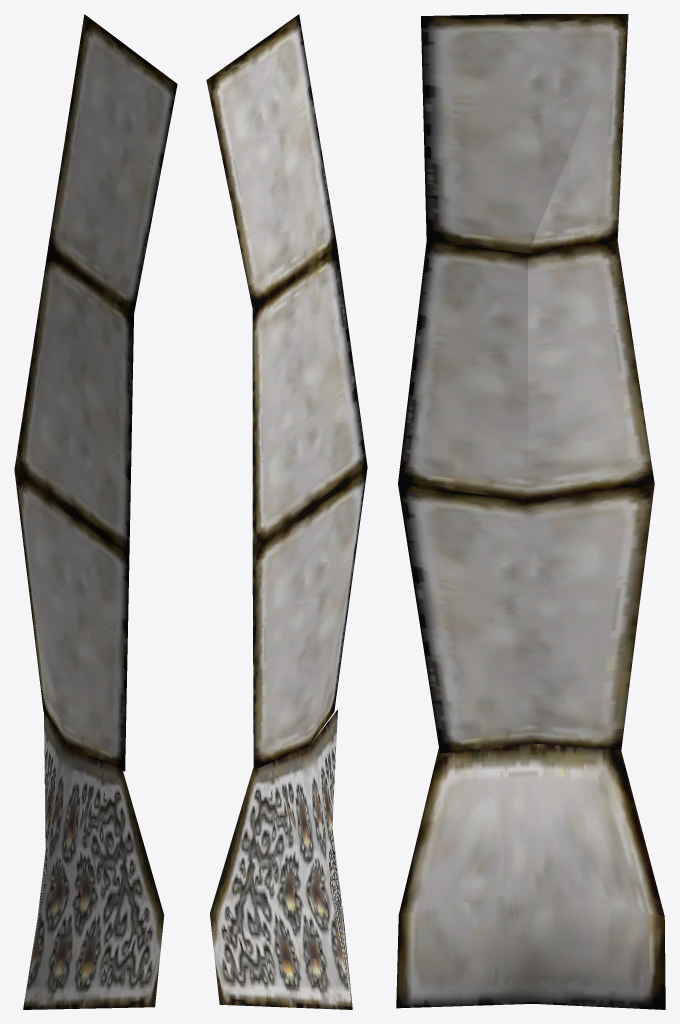
Rendered from earring_s01_l0.fbx.
3 renders of one model, left to right at view 1: azimuth 30°, elevation 25°; view 2: azimuth 150°, elevation 25°; view 3: azimuth 270°, elevation 25°, orthographic. The views are drawn at different scales.
Visible parts, largest first — view 1: mesh_node; view 2: mesh_node; view 3: mesh_node.
Boxes of the visible parts, left/top/right/bottom form: mesh_node: left=14, top=14, right=177, bottom=1009; mesh_node: left=206, top=14, right=367, bottom=1009; mesh_node: left=396, top=14, right=665, bottom=1009.
Size of the model in its own units: 0.0198 by 0.1706 by 0.0398.
Materials: 1 (1 with a texture image).
